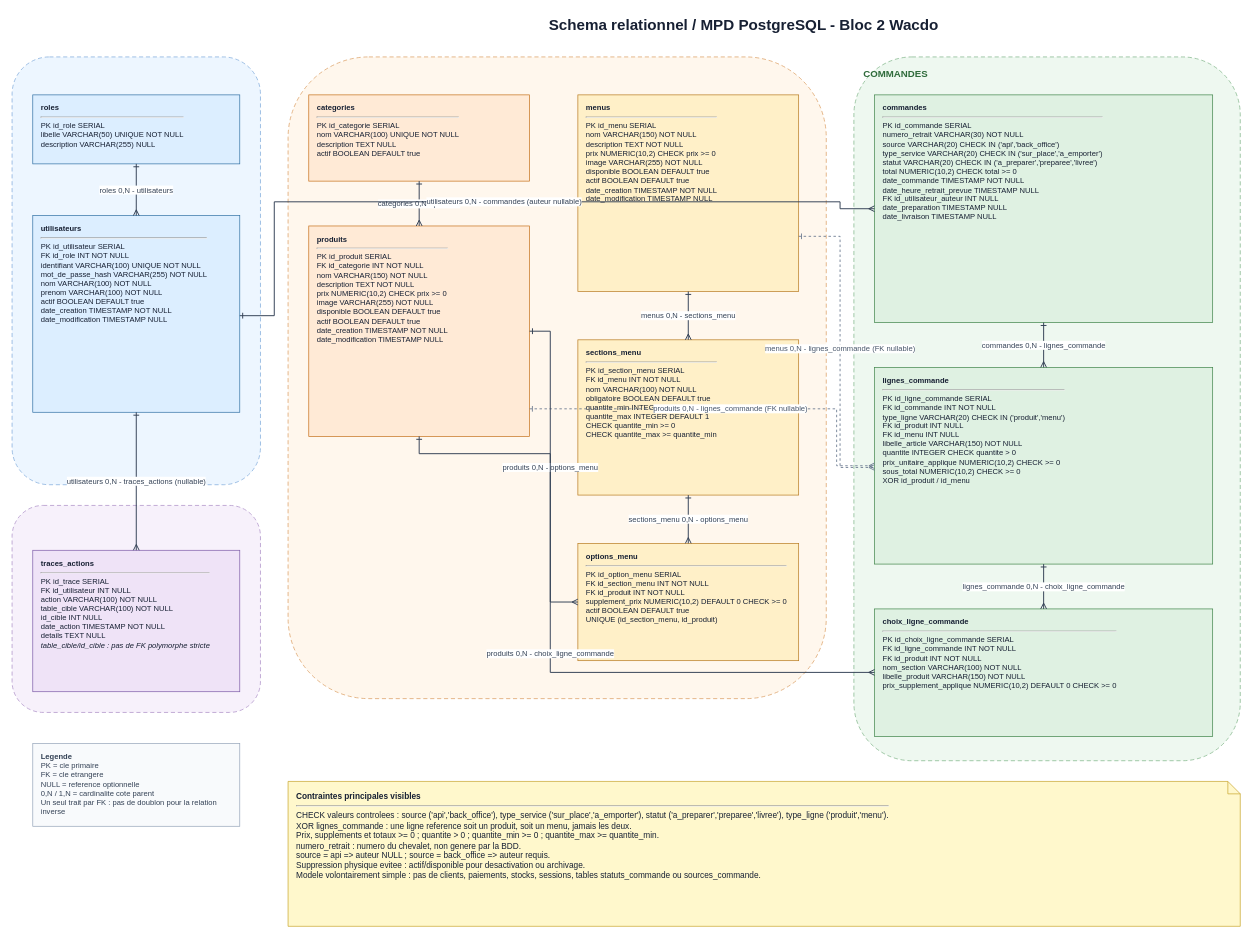
Image size: 1252x938. Some labels were removed from this diagram. Here are the shapes that lost their labels. From the top down, the box of each, then its label:
(11, 56, 260, 485): ACCES
(287, 56, 826, 699): CATALOGUE
(11, 505, 260, 712): AUDIT
